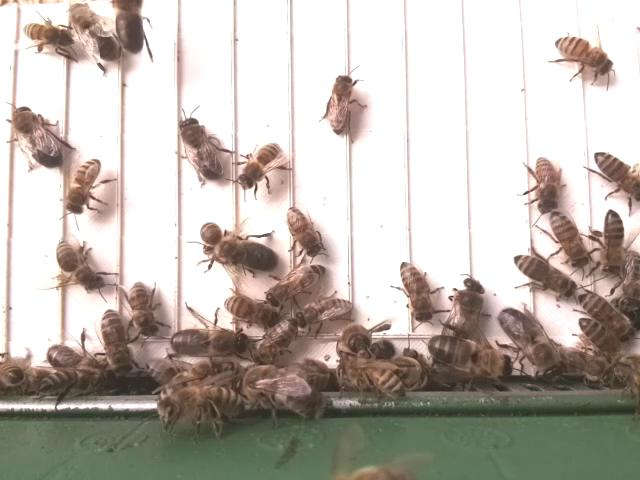Drone: (496, 307, 566, 383), (425, 333, 514, 378), (440, 275, 486, 359), (9, 103, 64, 170), (67, 0, 124, 64), (167, 323, 253, 363), (178, 112, 224, 183), (201, 235, 281, 275)
Worker: (512, 251, 579, 299), (578, 288, 636, 342), (263, 263, 331, 307), (548, 206, 592, 271), (55, 236, 105, 292), (552, 33, 616, 76), (397, 258, 438, 324), (591, 151, 640, 202), (100, 306, 136, 374), (322, 72, 359, 138), (285, 203, 326, 262), (235, 142, 285, 190), (291, 295, 358, 330), (62, 158, 103, 215), (128, 279, 161, 339), (530, 152, 560, 217), (221, 293, 280, 323), (601, 206, 626, 273), (23, 21, 75, 51)
